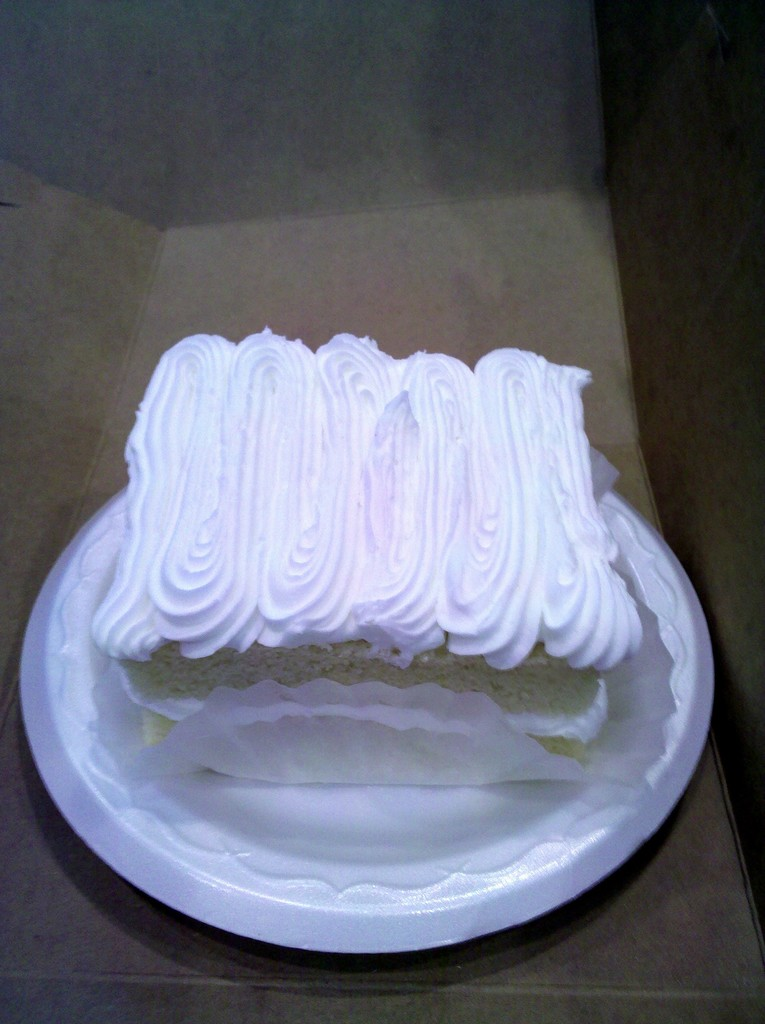cake: (87, 321, 657, 803)
